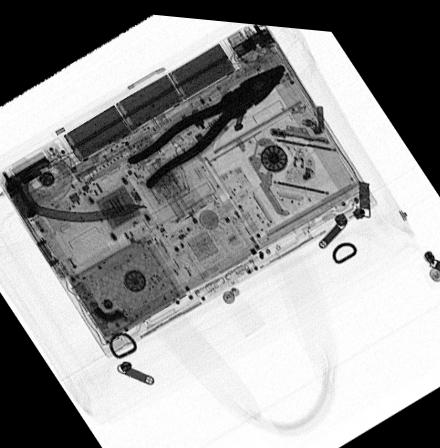Pliers: (122, 56, 286, 187)
